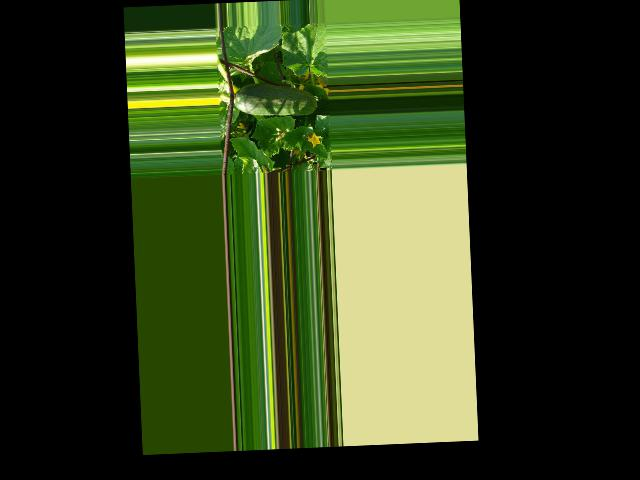cucumber: (233, 79, 317, 118)
